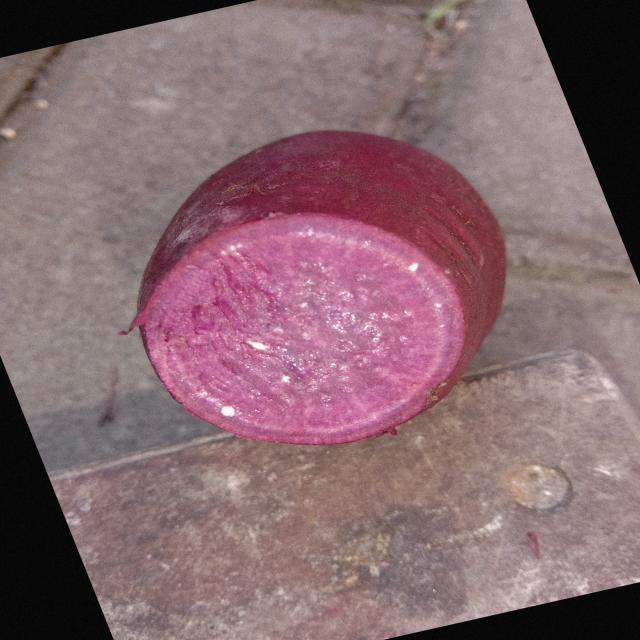Healthy Sweet Potato: (133, 214, 465, 444)
